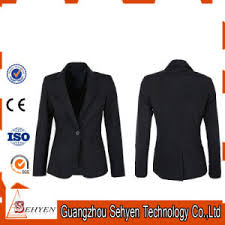F_W_suit jacket: (129, 53, 224, 183), (30, 59, 129, 181)
